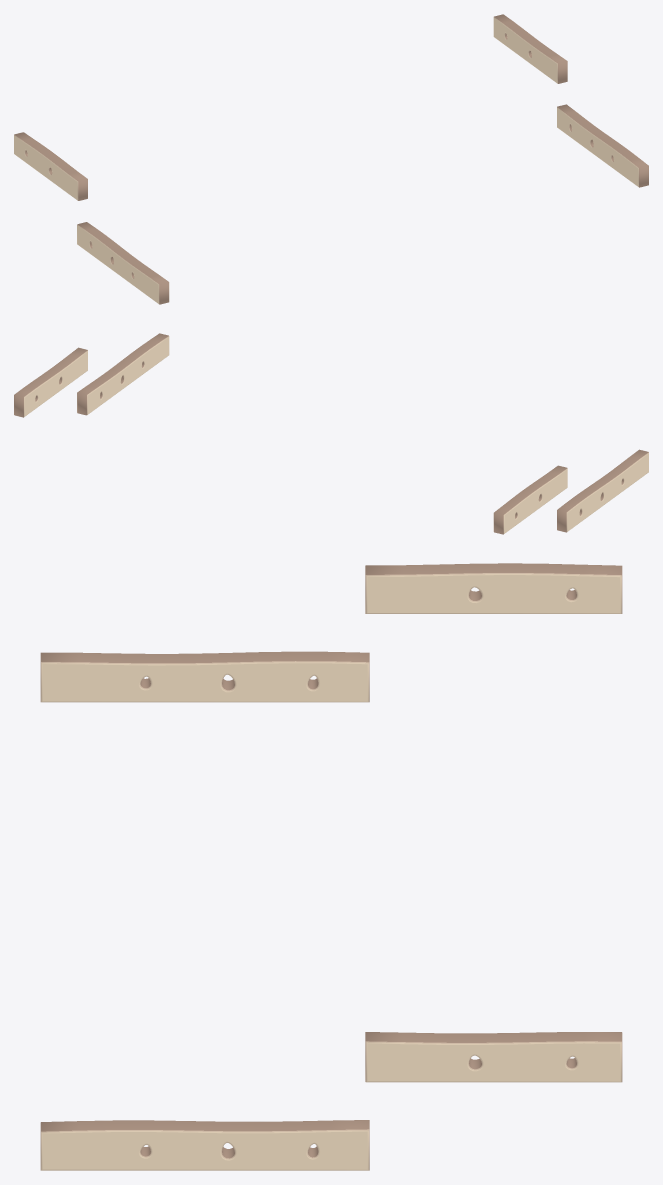
The model's file is side-parapet-l1-v3.glb.
The picture shows the model from 3 angles, top to bottom: view 1: azimuth 30°, elevation 25°; view 2: azimuth 150°, elevation 25°; view 3: azimuth 270°, elevation 25°; orthographic projection. The views are drawn at different scales.
Visible parts, largest first — view 1: TG03_SIDE_L1; view 2: TG03_SIDE_L1; view 3: TG03_SIDE_L1.
Part boxes in pixels (<box>): TG03_SIDE_L1: <box>14,14,648,304</box>; TG03_SIDE_L1: <box>14,333,648,534</box>; TG03_SIDE_L1: <box>40,563,622,1170</box>.
Bounding box in the file's own units: 18.83 × 2.39 × 9.67.
